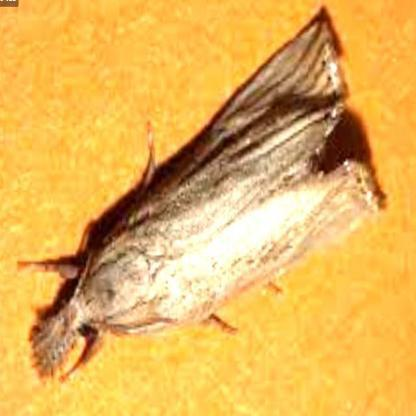stem-borer: (15, 12, 386, 386)
